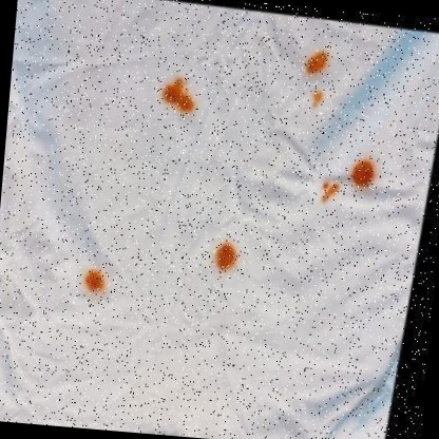kimchi: (152, 74, 197, 117), (299, 46, 335, 81), (210, 238, 240, 276), (75, 270, 115, 298), (352, 159, 376, 192), (318, 179, 339, 205), (307, 90, 324, 110)
